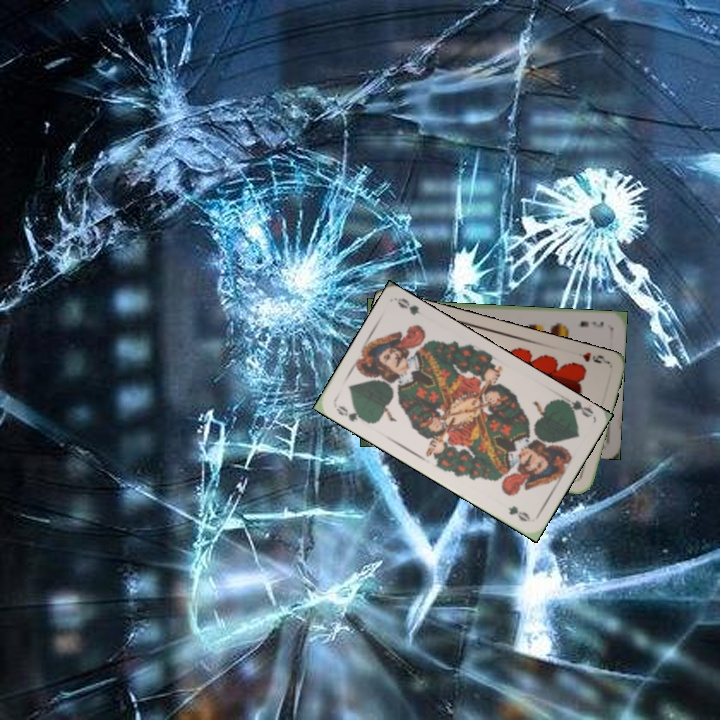E7: (576, 317, 606, 330)
GO: (555, 391, 595, 420), (332, 401, 369, 425)
H9: (579, 348, 610, 366)
